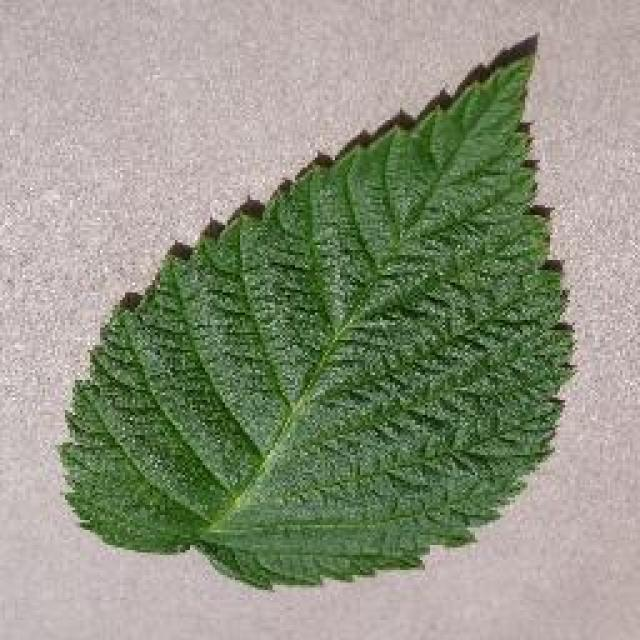Ras_healthy: (98, 95, 553, 592)
